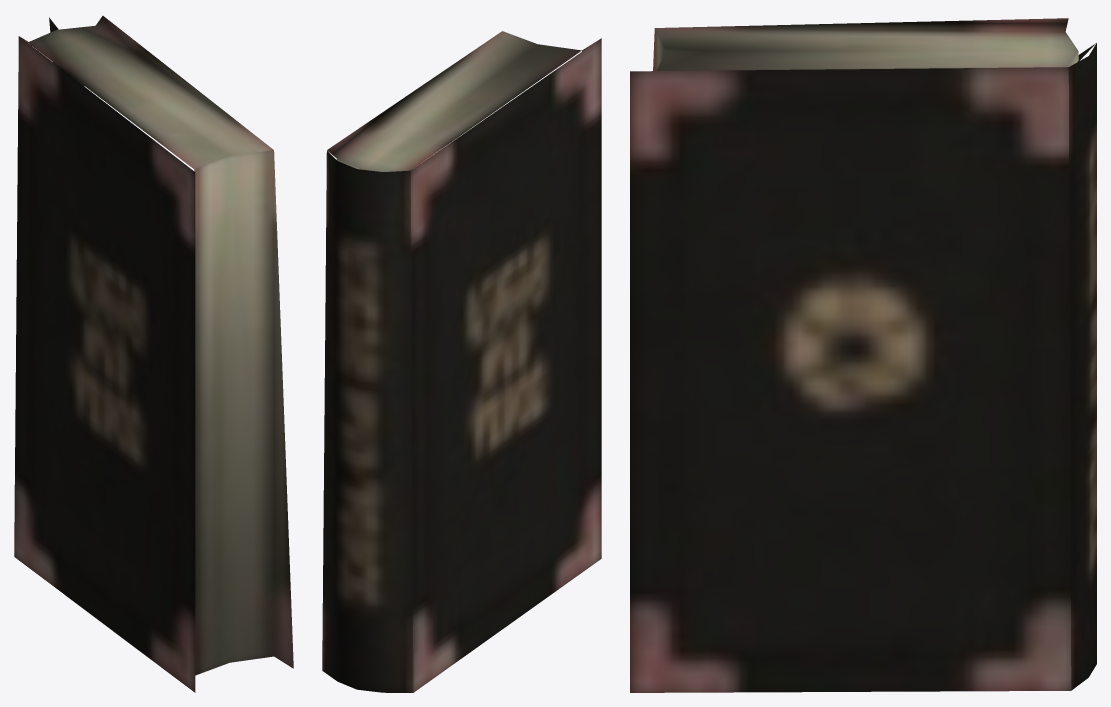
Rendered from standardBookR.glb.
3 renders of one model, left to right at view 1: azimuth 30°, elevation 25°; view 2: azimuth 150°, elevation 25°; view 3: azimuth 270°, elevation 25°, orthographic. The views are drawn at different scales.
Visible parts, largest first — view 1: standardBookR; view 2: standardBookR; view 3: standardBookR.
Part boxes in pixels (x1,y1,x2,y2): standardBookR: (14, 15, 293, 692); standardBookR: (322, 31, 601, 692); standardBookR: (630, 18, 1096, 692).
Size of the model in its own units: 0.0735 by 0.3713 by 0.2527.
1 material, 1 textured.
